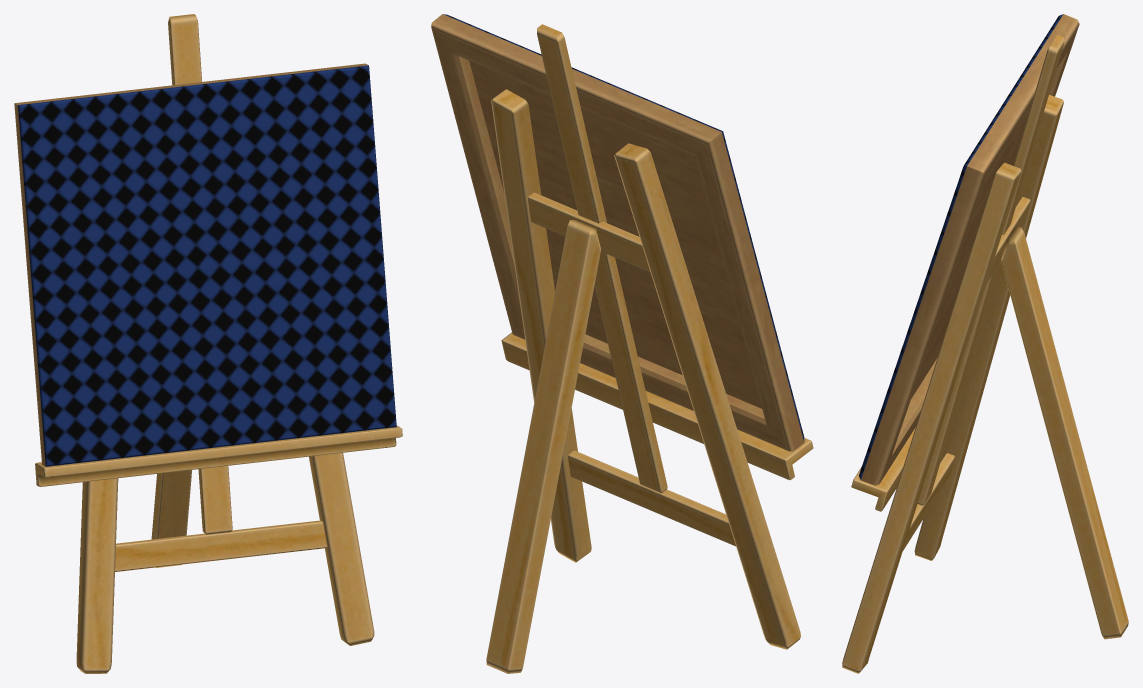
File: FtrMydesignEasel.glb
The picture shows the model from 3 angles, left to right: view 1: azimuth 30°, elevation 25°; view 2: azimuth 150°, elevation 25°; view 3: azimuth 270°, elevation 25°; orthographic projection. The views are drawn at different scales.
Parts seen in each view (by area): view 1: FtrMydesignEasel__mReFabric, FtrMydesignEasel__mBody; view 2: FtrMydesignEasel__mBody, FtrMydesignEasel__mReFabric; view 3: FtrMydesignEasel__mBody, FtrMydesignEasel__mReFabric.
Boxes of the visible parts, <box> form: FtrMydesignEasel__mReFabric: <box>18,65,396,466</box>; FtrMydesignEasel__mBody: <box>14,14,402,673</box>; FtrMydesignEasel__mBody: <box>431,14,813,673</box>; FtrMydesignEasel__mReFabric: <box>443,14,804,441</box>; FtrMydesignEasel__mBody: <box>842,14,1128,673</box>; FtrMydesignEasel__mReFabric: <box>859,14,1063,479</box>.
Size of the model in its own units: 8.85 by 14.49 by 6.36.
2 materials, 2 textured.
